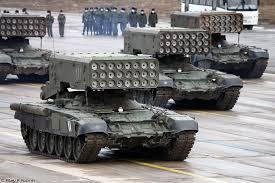person: (44, 9, 54, 38), (119, 6, 128, 36), (82, 6, 90, 37), (130, 5, 140, 29), (104, 6, 112, 36), (92, 5, 99, 38), (58, 10, 66, 38), (148, 8, 158, 30), (112, 7, 119, 37), (98, 7, 104, 35), (140, 9, 148, 28)
rszo: (31, 50, 204, 165), (130, 25, 252, 116), (173, 11, 266, 74), (1, 9, 67, 77)
